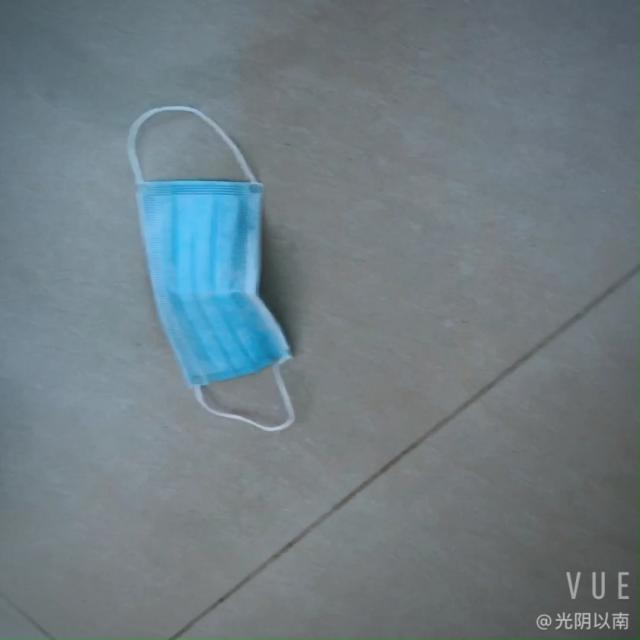face mask: (129, 133, 287, 433)
